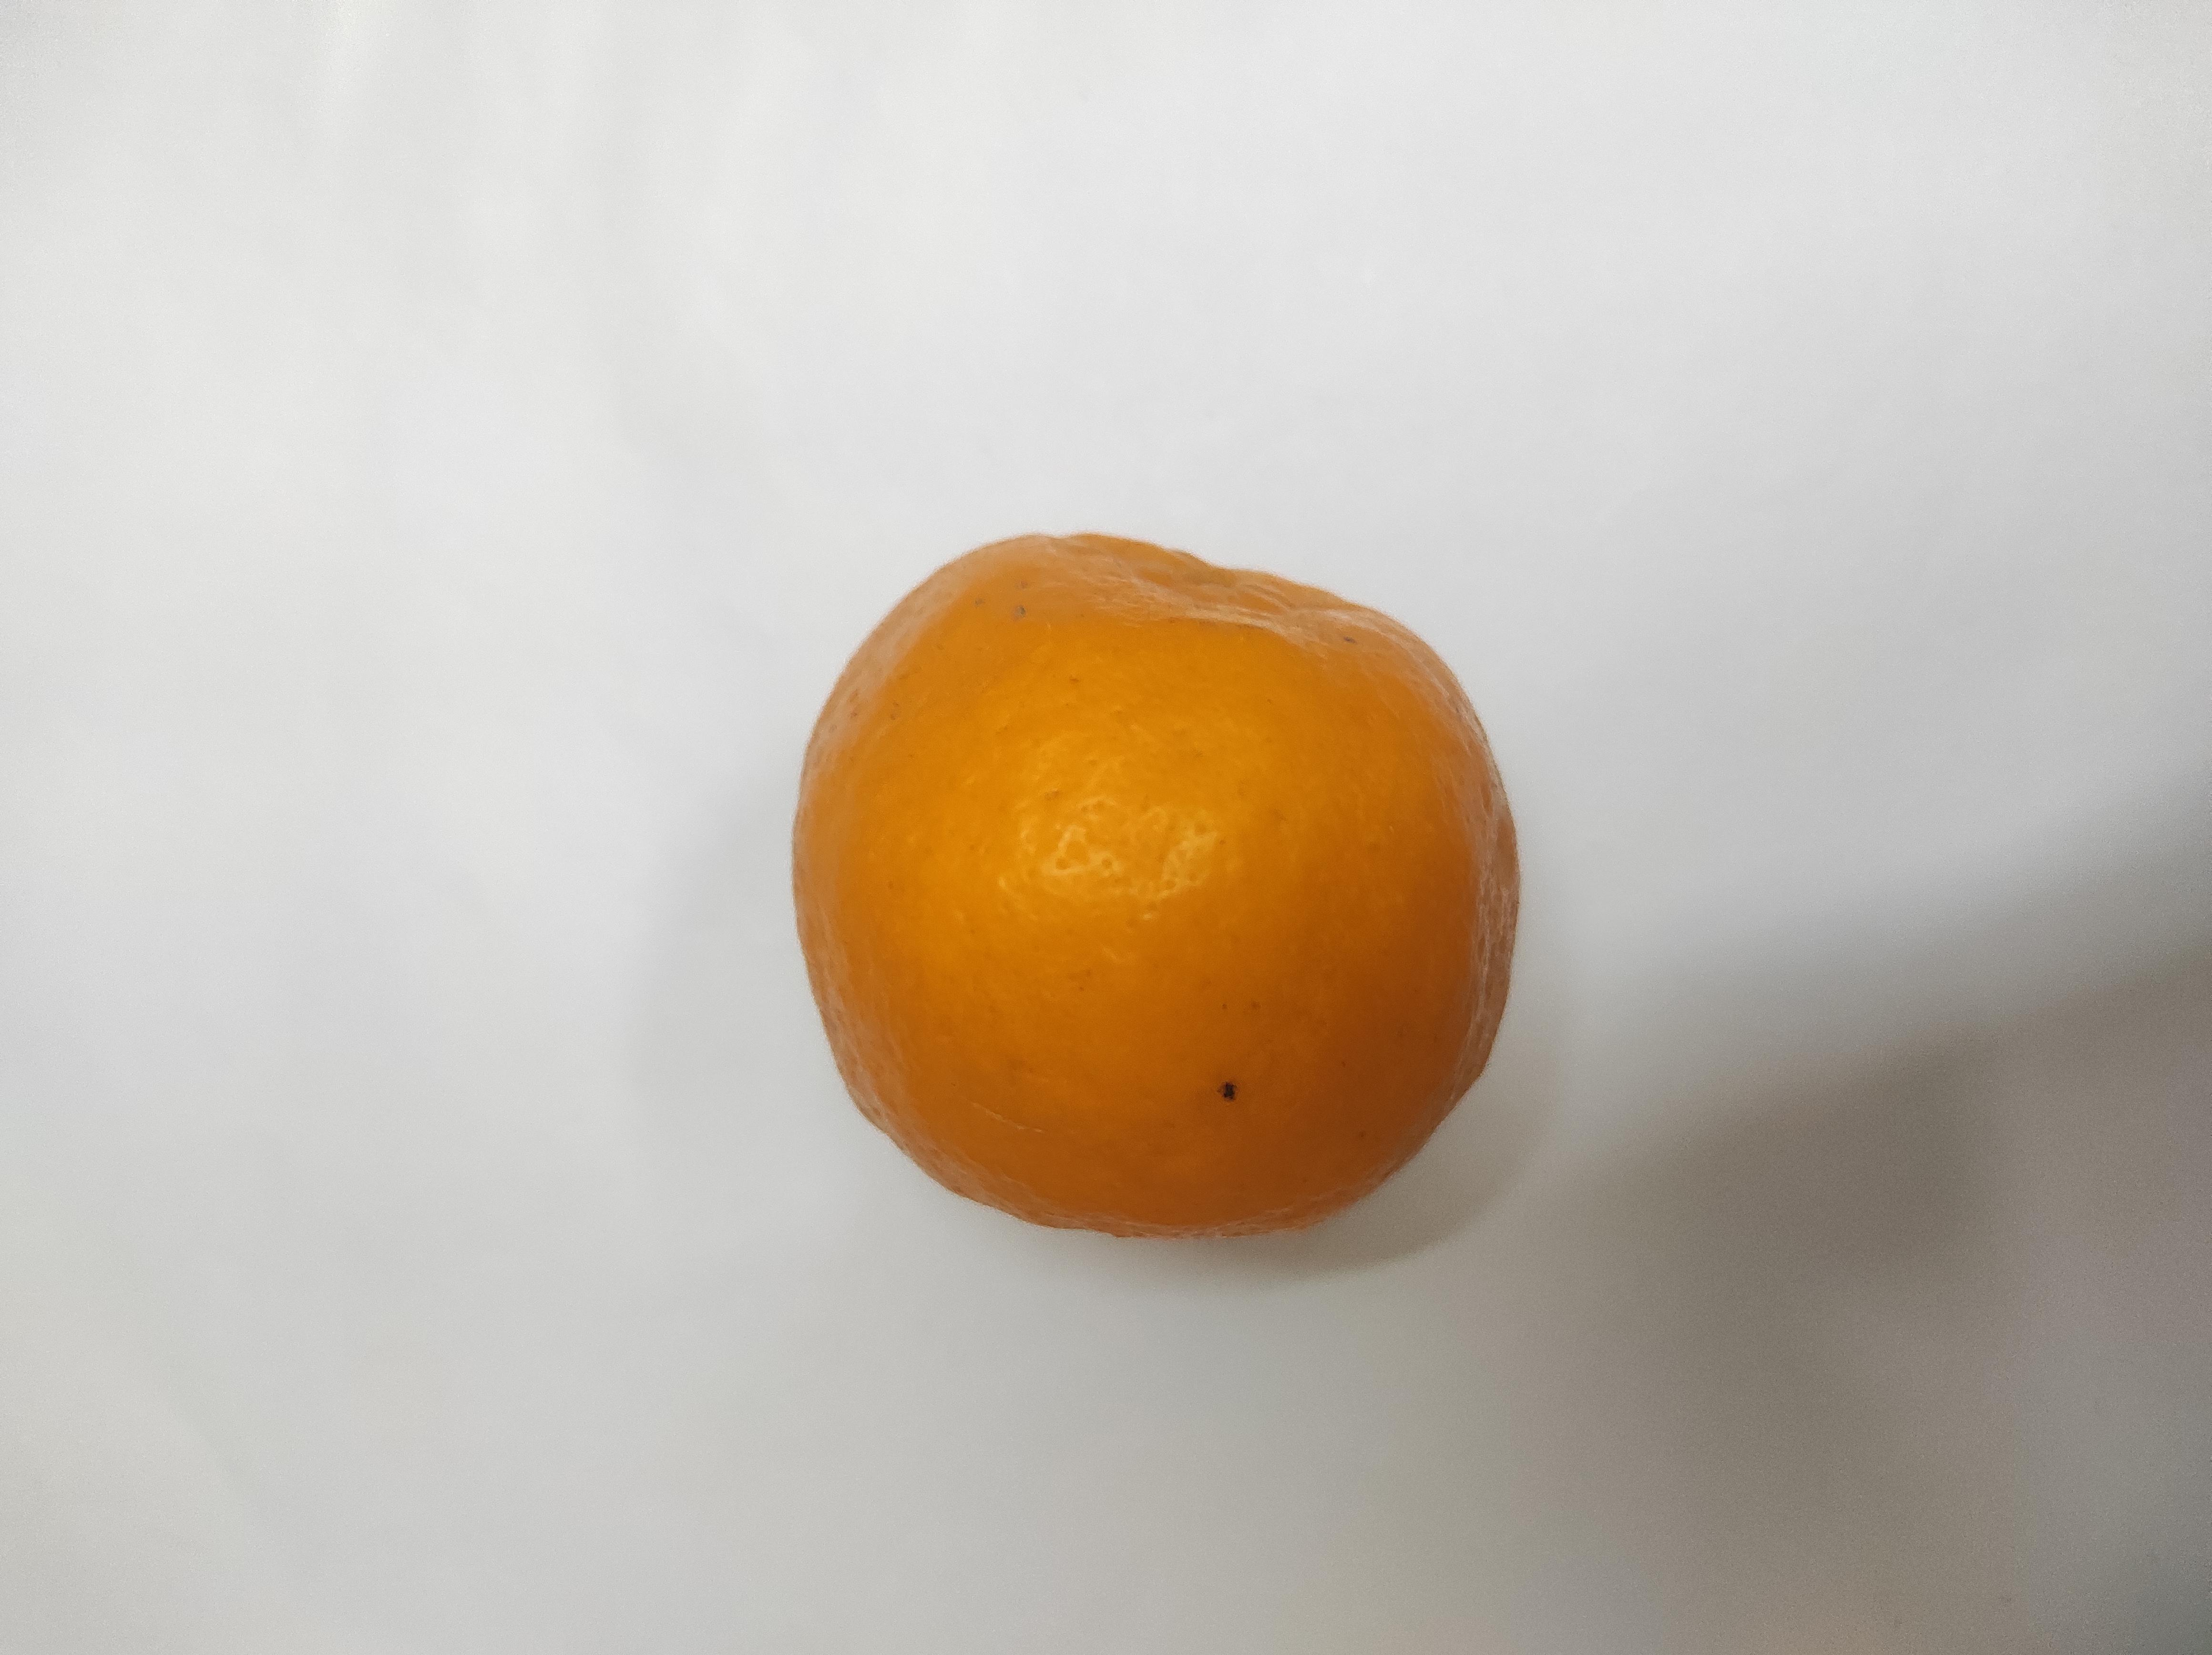Ripe: (791, 534, 1536, 1248)
